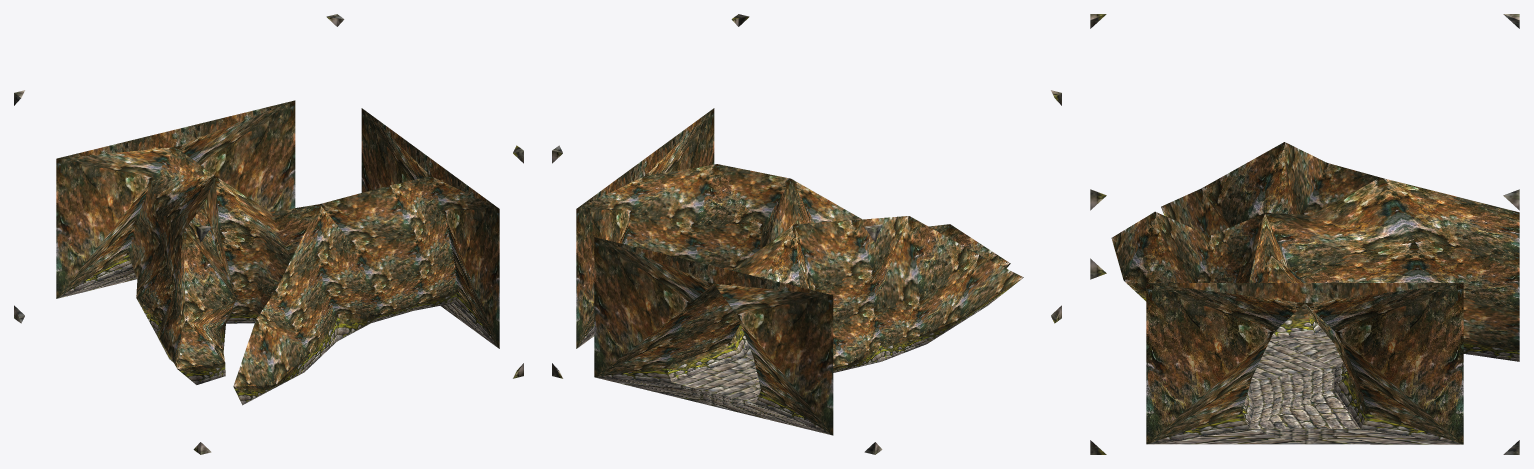
The model's file is lbc_2h.glb.
The picture shows the model from 3 angles, left to right: view 1: azimuth 30°, elevation 25°; view 2: azimuth 150°, elevation 25°; view 3: azimuth 270°, elevation 25°; orthographic projection. The views are drawn at different scales.
Parts seen in each view (by area): view 1: lbc_2h-col; view 2: lbc_2h-col; view 3: lbc_2h-col.
Part boxes in pixels (x1,y1,x2,y2): lbc_2h-col: [14, 14, 523, 454]; lbc_2h-col: [552, 14, 1061, 454]; lbc_2h-col: [1090, 14, 1519, 454].
Bounding box in the file's own units: 15 × 10 × 15.
Materials: 3 (3 with a texture image).
